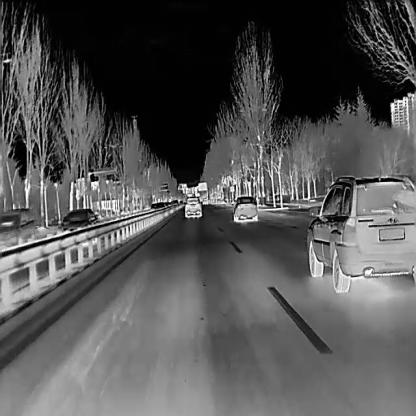car: (306, 173, 416, 293), (56, 207, 99, 242), (0, 206, 34, 246), (231, 194, 258, 221), (183, 196, 201, 216), (155, 201, 165, 213), (150, 202, 157, 212), (200, 196, 208, 204)
